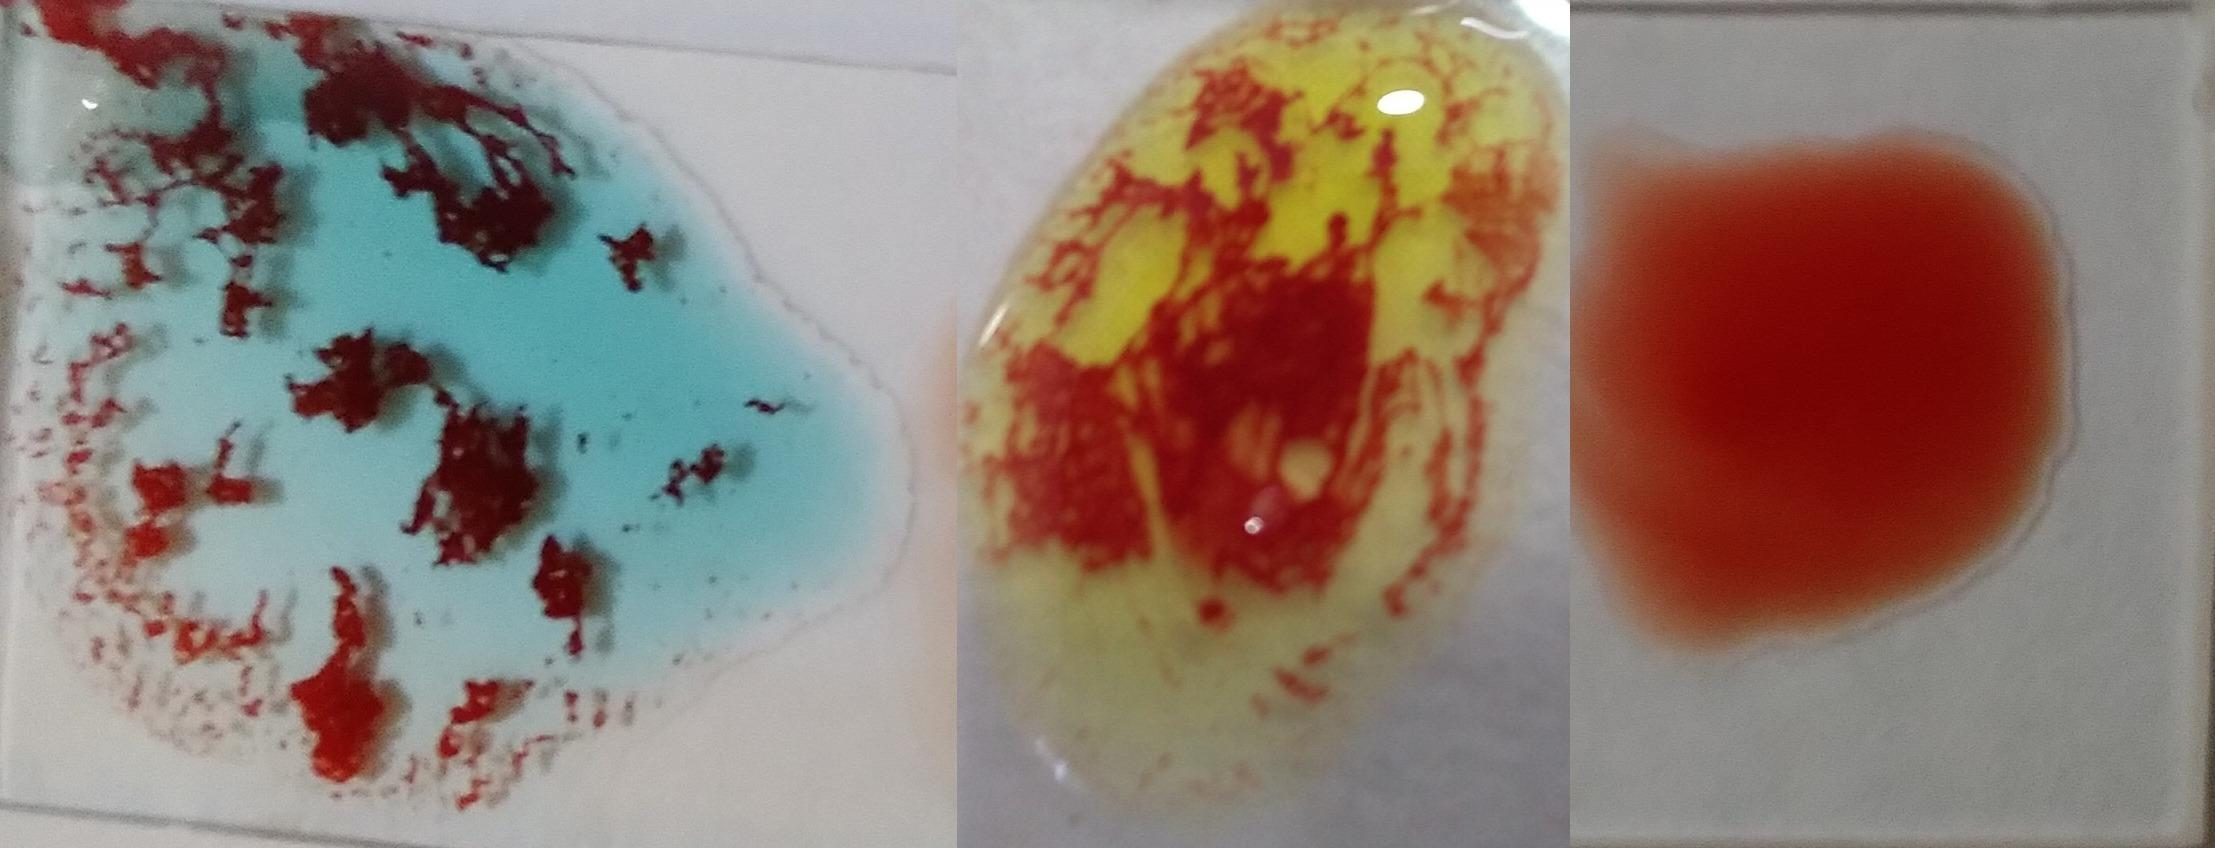A: (28, 6, 788, 804)
B: (985, 6, 1572, 818)
